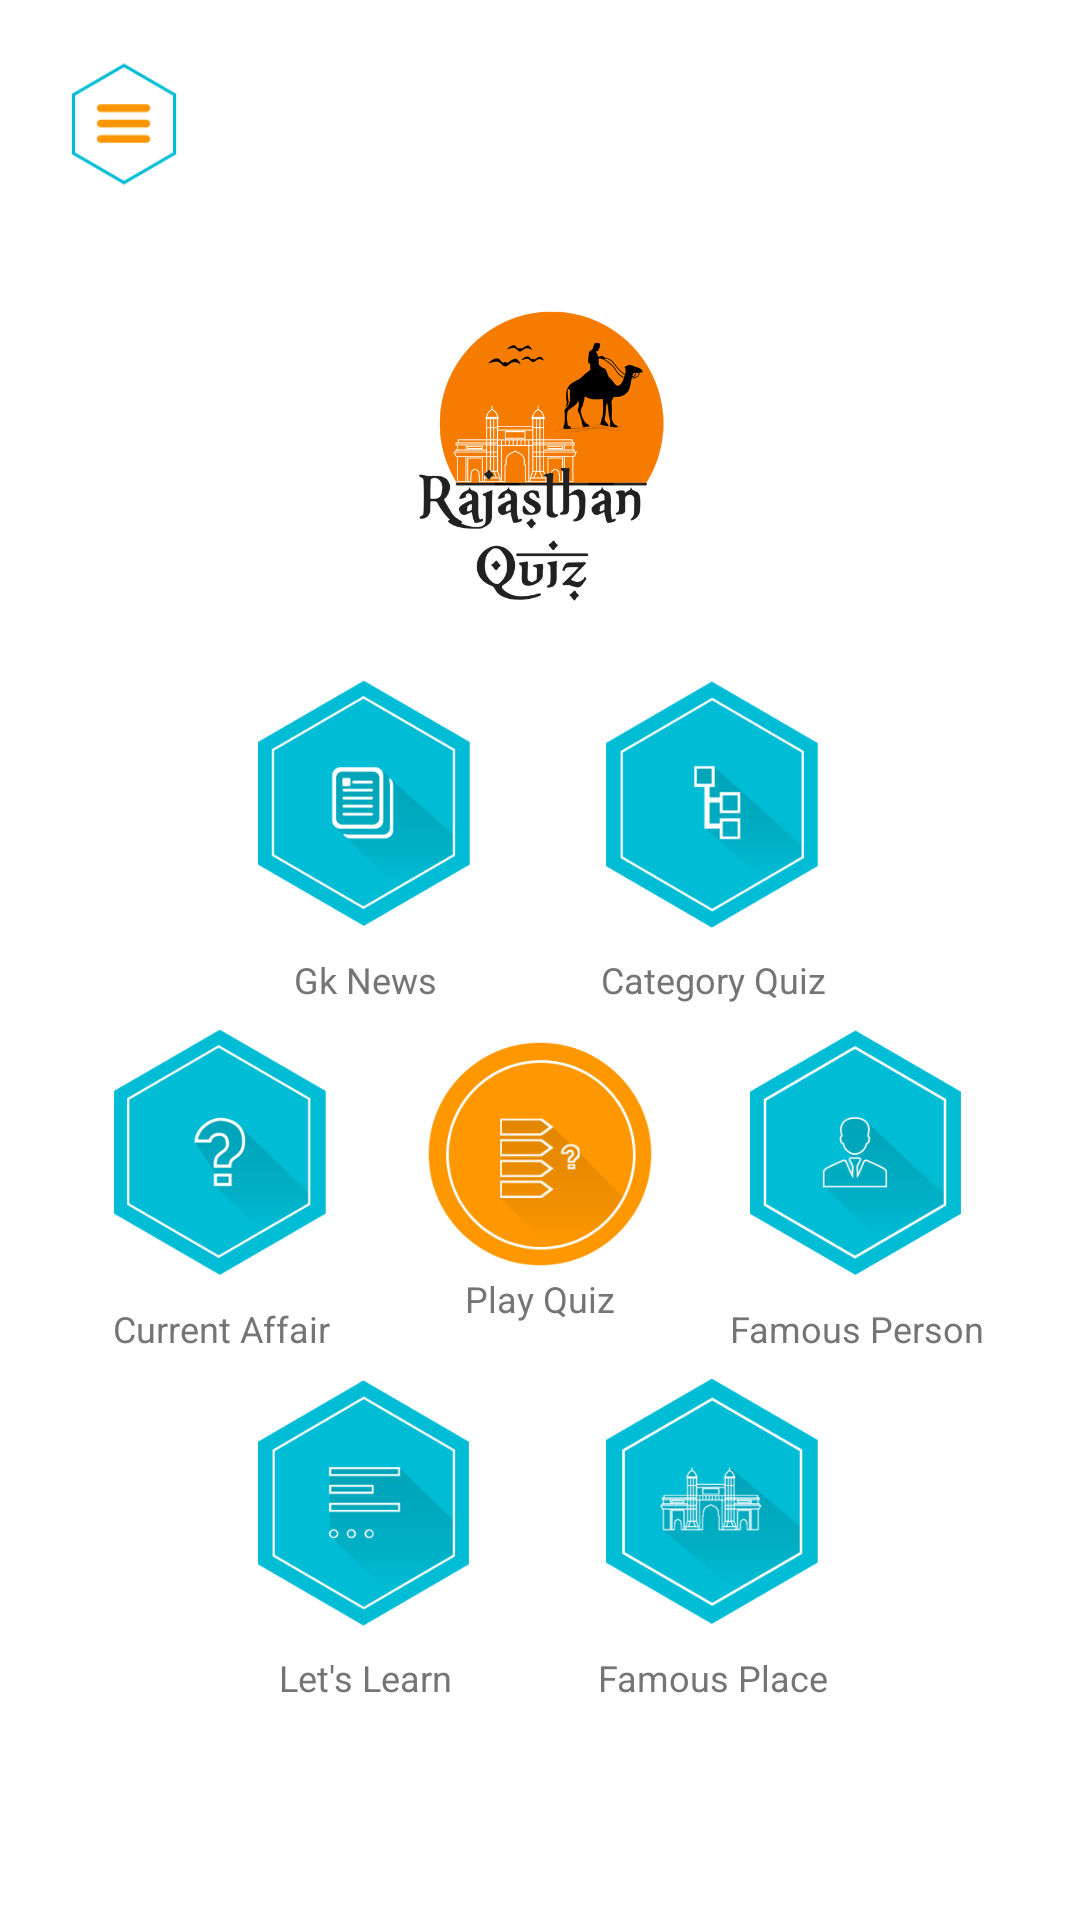

Point at icon controls on the screen. Image size 1080*1920, points as (x,y).
menu: (124,124)
